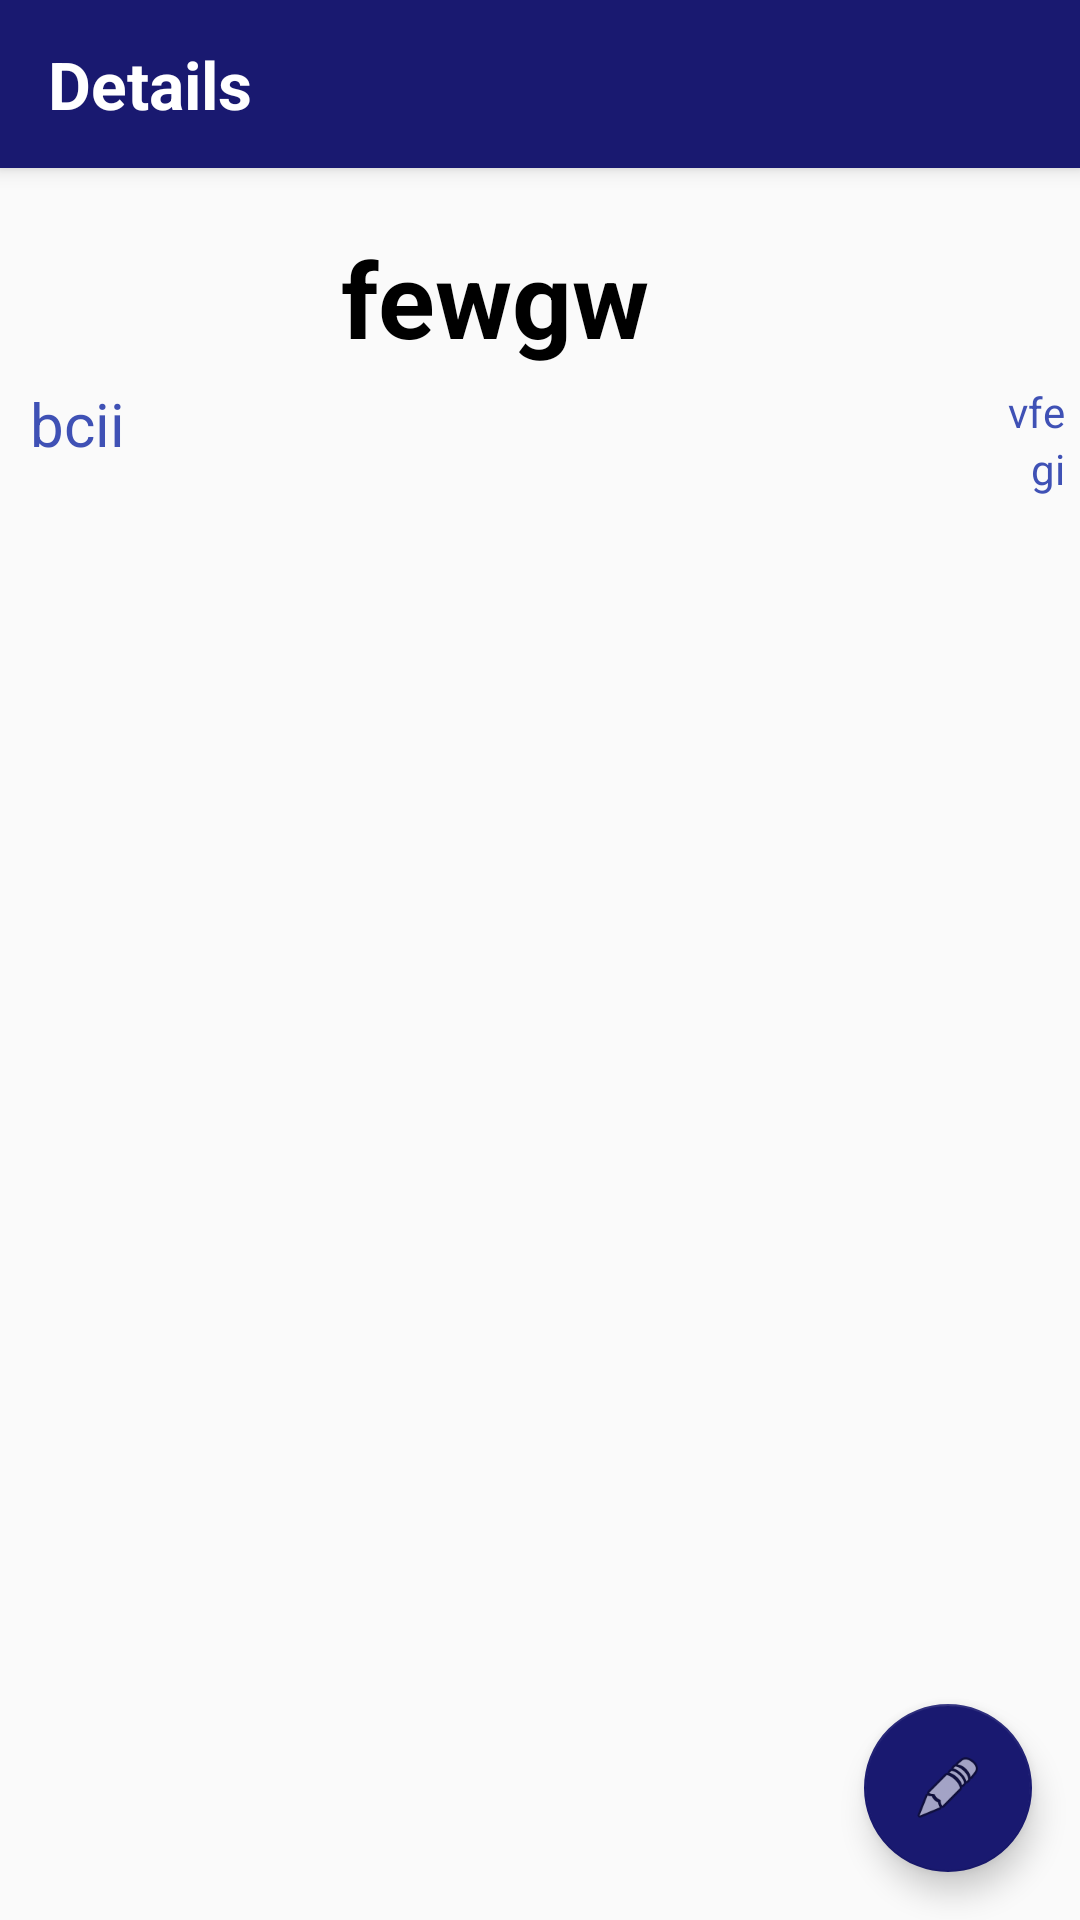

Screen size 1080 × 1920. Icon name, then its box in pixels as (x1, y1, x2, y2):
edit: (864, 1704, 1032, 1872)
